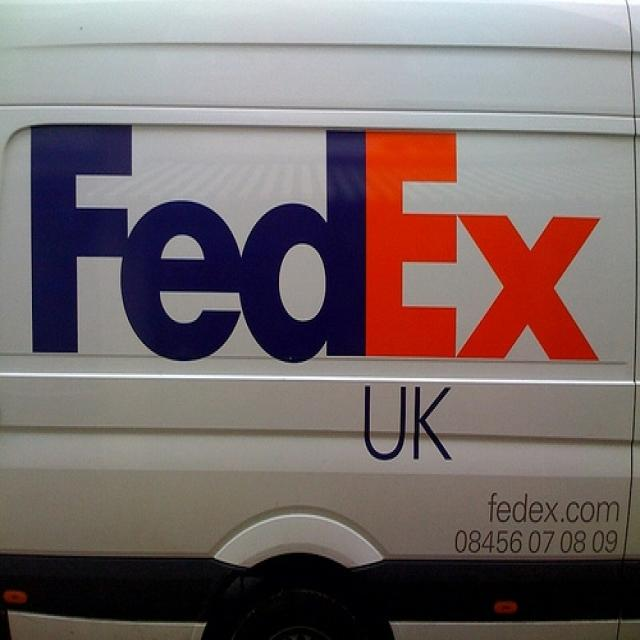fedex: (22, 119, 612, 369)
